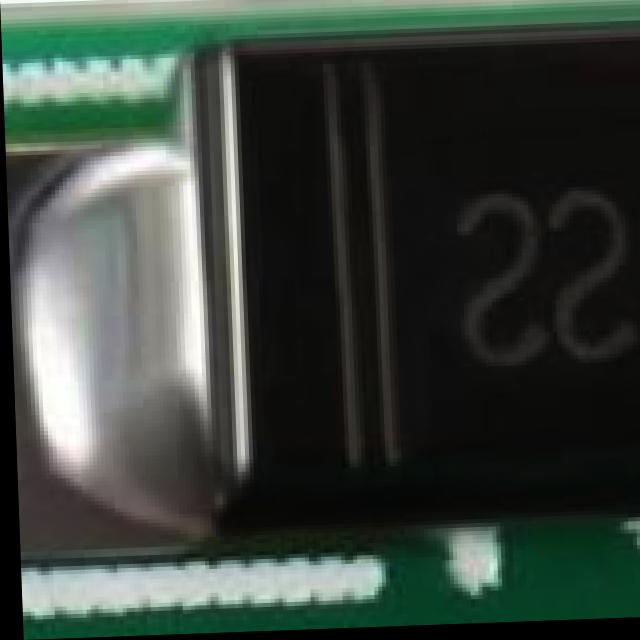diode: (69, 17, 640, 522)
